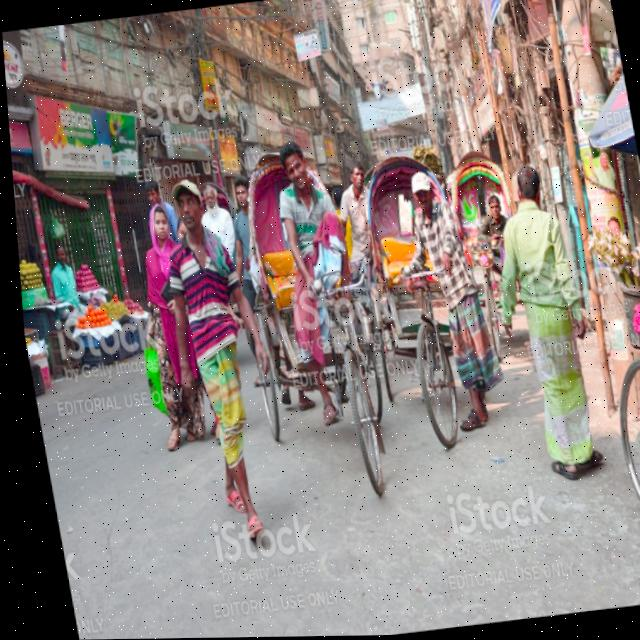rikshaw: (212, 126, 385, 487), (340, 125, 477, 469), (424, 142, 531, 359)
